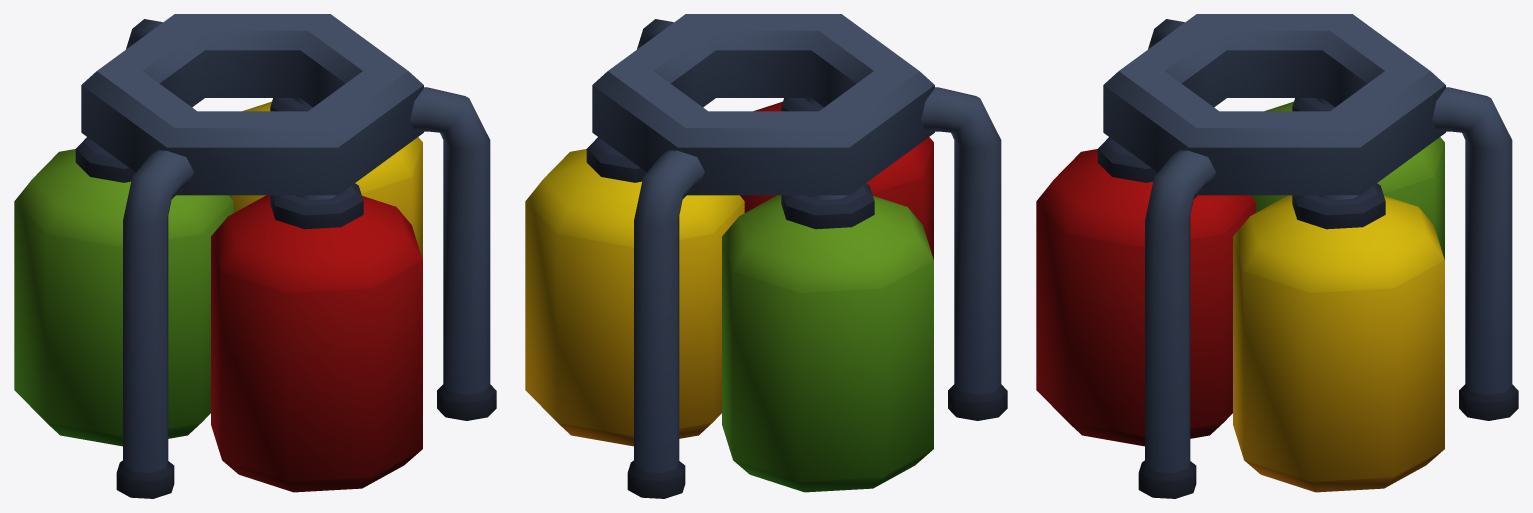
Rendered from Gas Tank 01.FBX.
The picture shows the model from 3 angles, left to right: view 1: azimuth 30°, elevation 25°; view 2: azimuth 150°, elevation 25°; view 3: azimuth 270°, elevation 25°; orthographic projection.
Visible parts, largest first — view 1: Gas Tank 01 Rack, Gas Tank 01 Red, Gas Tank 01 Green, Gas Tank 01 Yellow; view 2: Gas Tank 01 Rack, Gas Tank 01 Green, Gas Tank 01 Yellow, Gas Tank 01 Red; view 3: Gas Tank 01 Rack, Gas Tank 01 Yellow, Gas Tank 01 Red, Gas Tank 01 Green.
Part boxes in pixels (x1,y1,x2,y2): Gas Tank 01 Rack: (81, 14, 496, 498); Gas Tank 01 Red: (211, 183, 422, 492); Gas Tank 01 Green: (14, 137, 233, 446); Gas Tank 01 Yellow: (229, 98, 422, 259); Gas Tank 01 Rack: (592, 14, 1007, 498); Gas Tank 01 Green: (722, 183, 933, 492); Gas Tank 01 Yellow: (525, 137, 744, 446); Gas Tank 01 Red: (740, 98, 933, 259); Gas Tank 01 Rack: (1103, 14, 1518, 498); Gas Tank 01 Yellow: (1233, 183, 1444, 492); Gas Tank 01 Red: (1036, 137, 1255, 446); Gas Tank 01 Green: (1251, 98, 1444, 259).
Size of the model in its own units: 250 by 214 by 277.
1 material, 1 textured.
